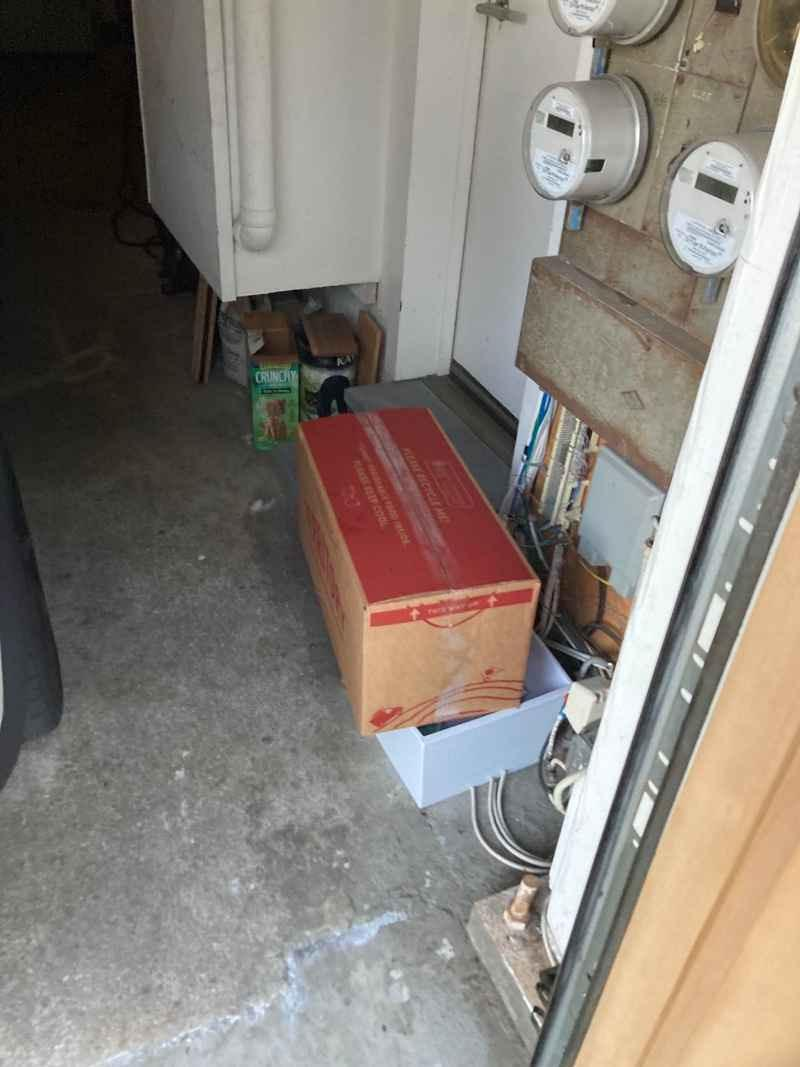package: (290, 397, 537, 733)
